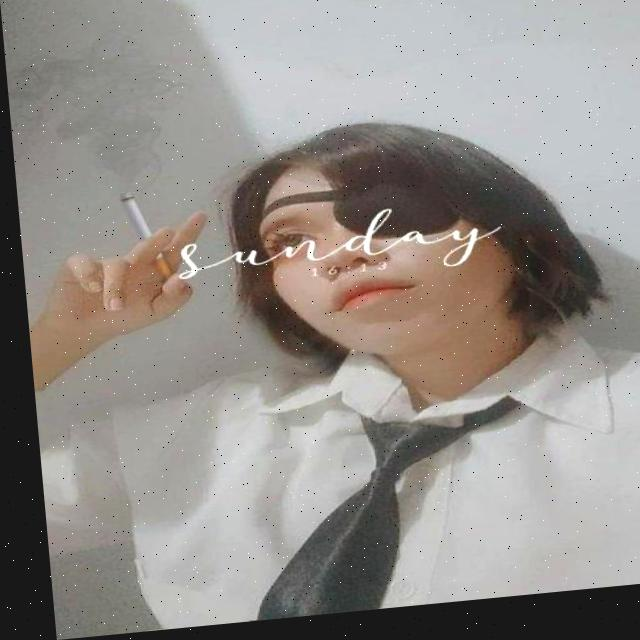cigarette: (115, 191, 166, 286)
